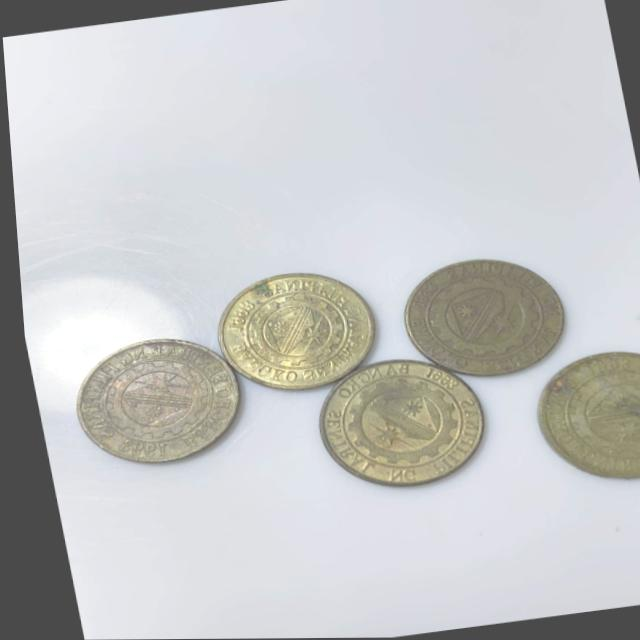25Cent_Old_Back: (298, 350, 493, 491), (58, 331, 240, 477), (202, 268, 377, 392), (395, 253, 560, 377), (521, 343, 640, 489)
